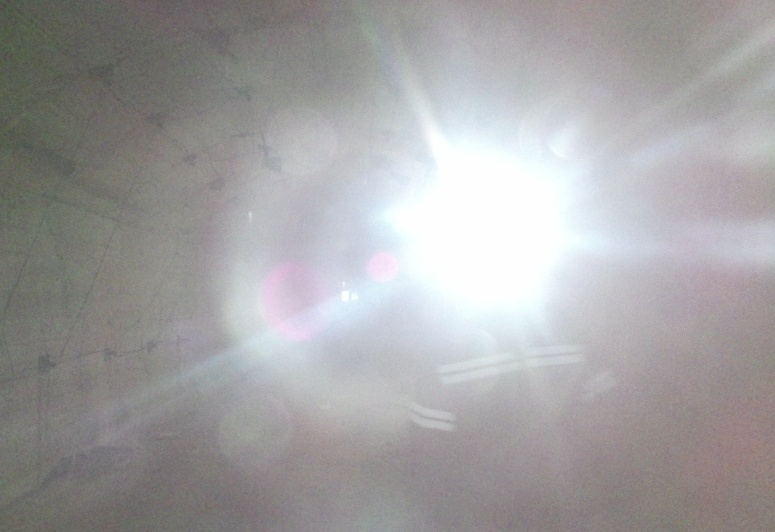person: (417, 194, 682, 532)
